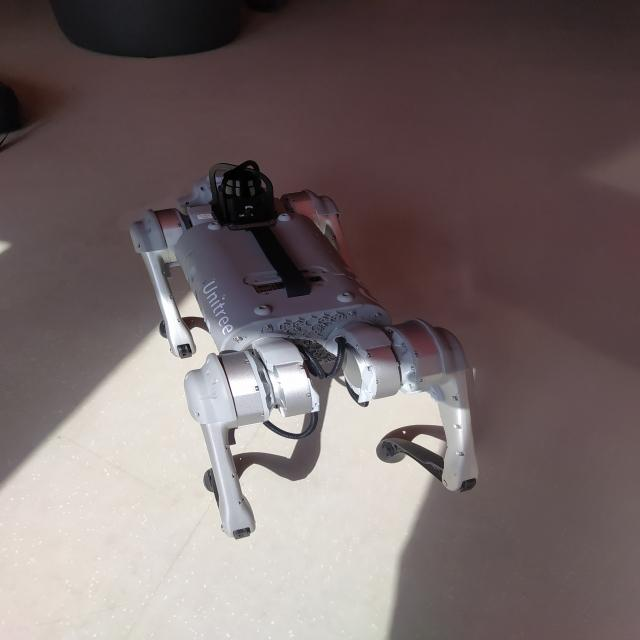unitree-go1-robot: (116, 147, 498, 569)
